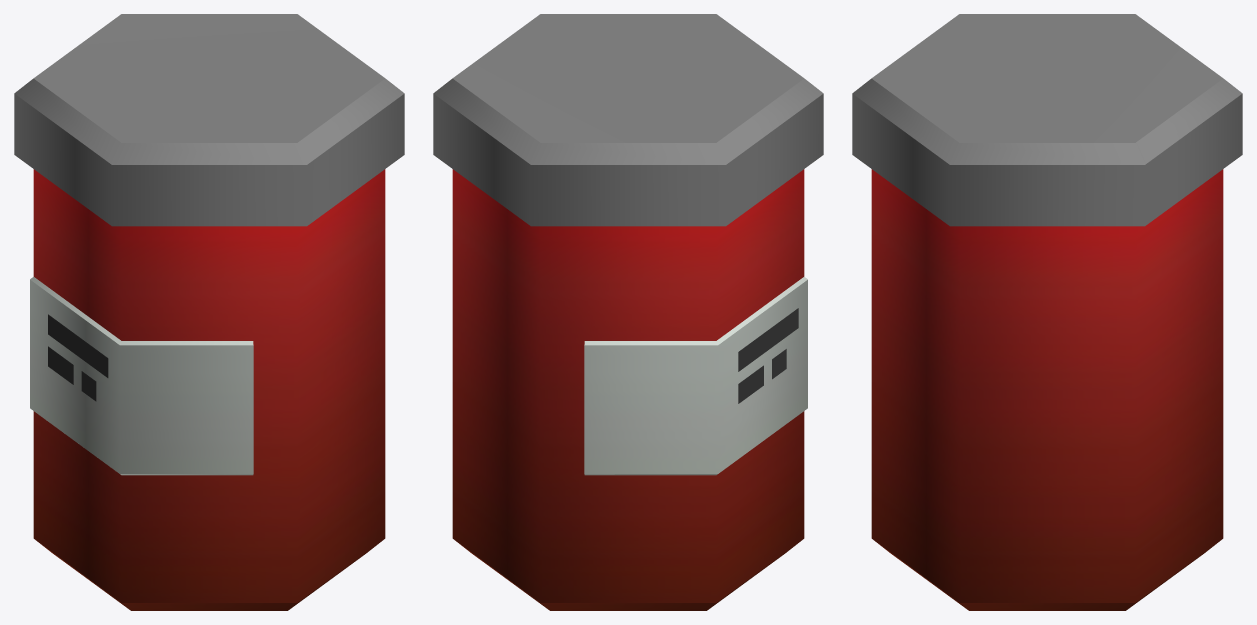
Rendered from Jar_3_F.fbx.
3 renders of one model, left to right at view 1: azimuth 30°, elevation 25°; view 2: azimuth 150°, elevation 25°; view 3: azimuth 270°, elevation 25°, orthographic.
Visible parts, largest first — view 1: Jar_3_F; view 2: Jar_3_F; view 3: Jar_3_F.
Part boxes in pixels (x1,y1,x2,y2): Jar_3_F: (14,14,404,610); Jar_3_F: (433,14,823,610); Jar_3_F: (852,14,1242,610).
Bounding box in the file's own units: 17.99 × 27.9 × 20.77.
